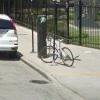Bicycle: (39, 34, 78, 70)
